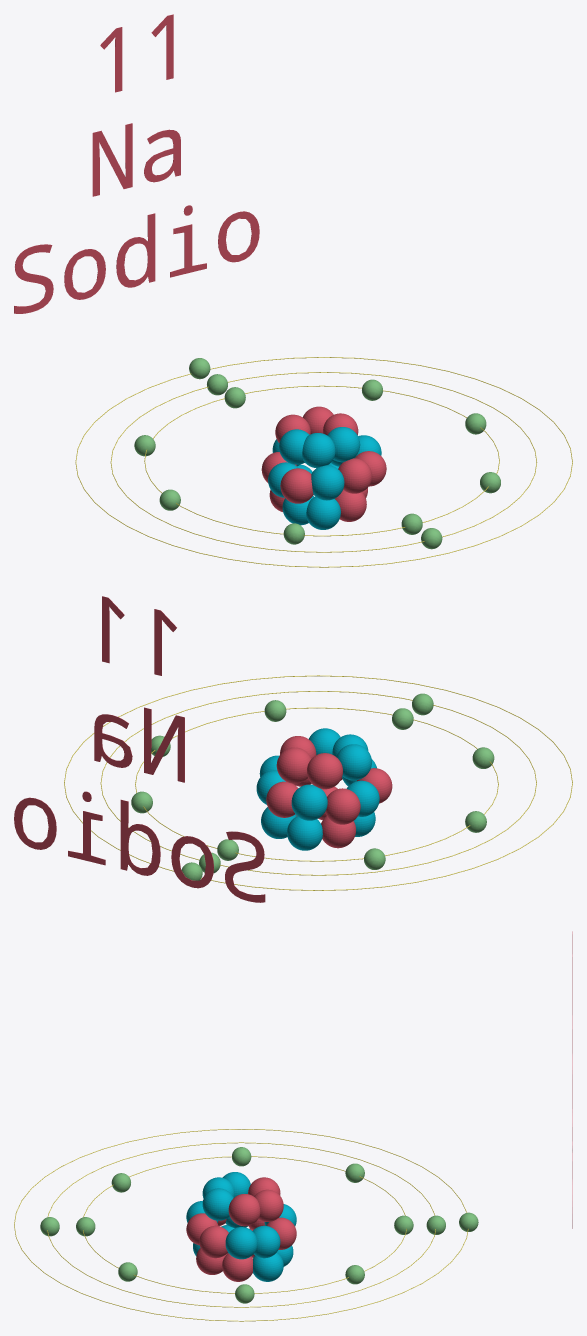
Rendered from 11-SODIO-ANDROID.glb.
The picture shows the model from 3 angles, top to bottom: view 1: azimuth 30°, elevation 25°; view 2: azimuth 150°, elevation 25°; view 3: azimuth 270°, elevation 25°; orthographic projection. The views are drawn at different scales.
Parts seen in each view (by area): view 1: Mesh_Mesh_head_geo.001_lambert2SG.001; view 2: Mesh_Mesh_head_geo.001_lambert2SG.001; view 3: Mesh_Mesh_head_geo.001_lambert2SG.001.
Boxes of the visible parts, <box> form: Mesh_Mesh_head_geo.001_lambert2SG.001: <box>14,14,572,567</box>; Mesh_Mesh_head_geo.001_lambert2SG.001: <box>14,596,572,902</box>; Mesh_Mesh_head_geo.001_lambert2SG.001: <box>14,931,572,1321</box>.
Size of the model in its own units: 140 by 111 by 172.
